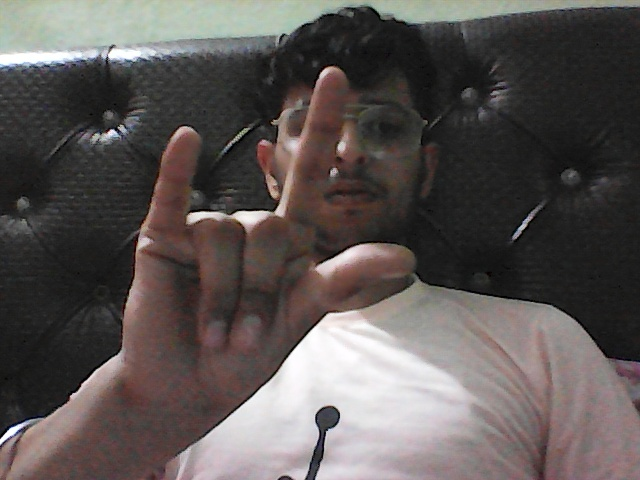iloveyou: (80, 47, 433, 472)
